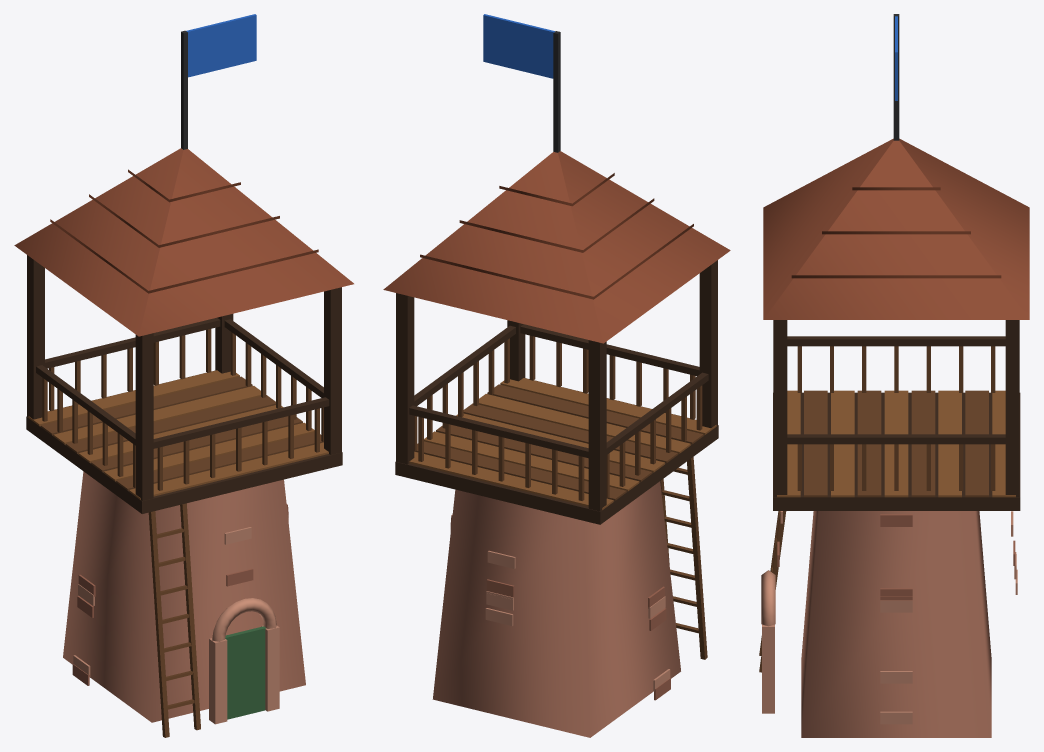
Rendered from wachturm.glb.
3 renders of one model, left to right at view 1: azimuth 30°, elevation 25°; view 2: azimuth 150°, elevation 25°; view 3: azimuth 270°, elevation 25°, orthographic. The views are drawn at different scales.
Bounding box in the file's own units: 2.47 × 7.01 × 2.51.
